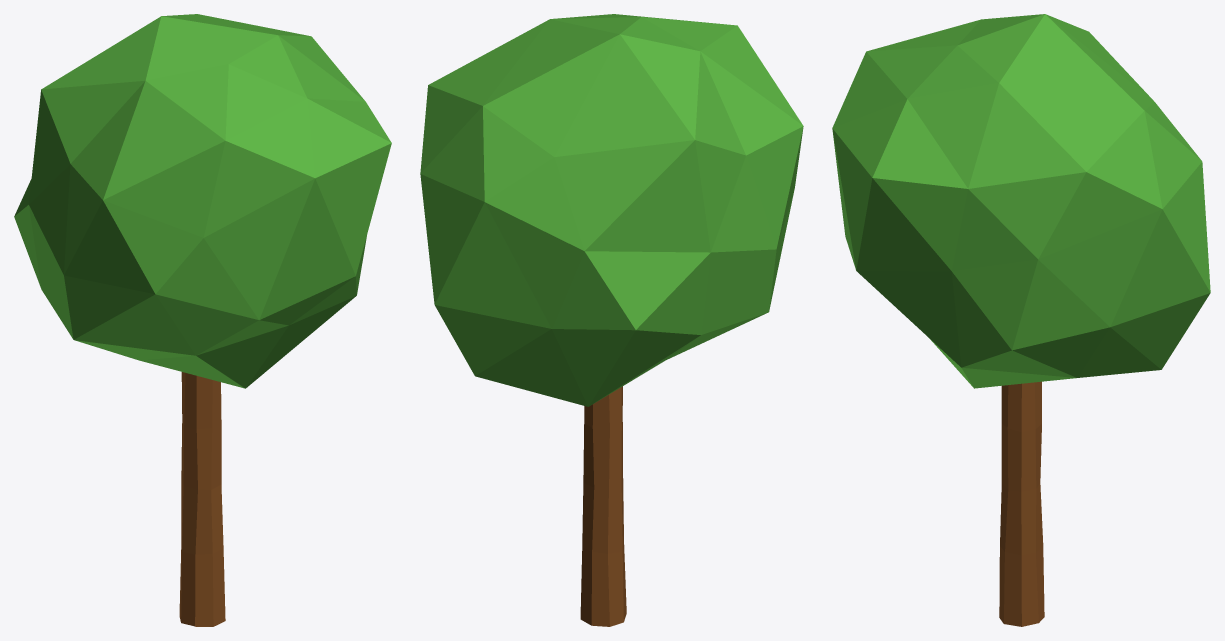
Rendered from tree5.fbx.
3 views of the same model, side by side, from view 1: azimuth 30°, elevation 25°; view 2: azimuth 150°, elevation 25°; view 3: azimuth 270°, elevation 25° (orthographic).
Parts seen in each view (by area): view 1: tree.005; view 2: tree.005; view 3: tree.005.
Part boxes in pixels (bbox=[...]): tree.005: bbox=[14, 14, 391, 626]; tree.005: bbox=[420, 14, 803, 626]; tree.005: bbox=[832, 14, 1210, 626].
Size of the model in its own units: 1848 by 1948 by 3353.
